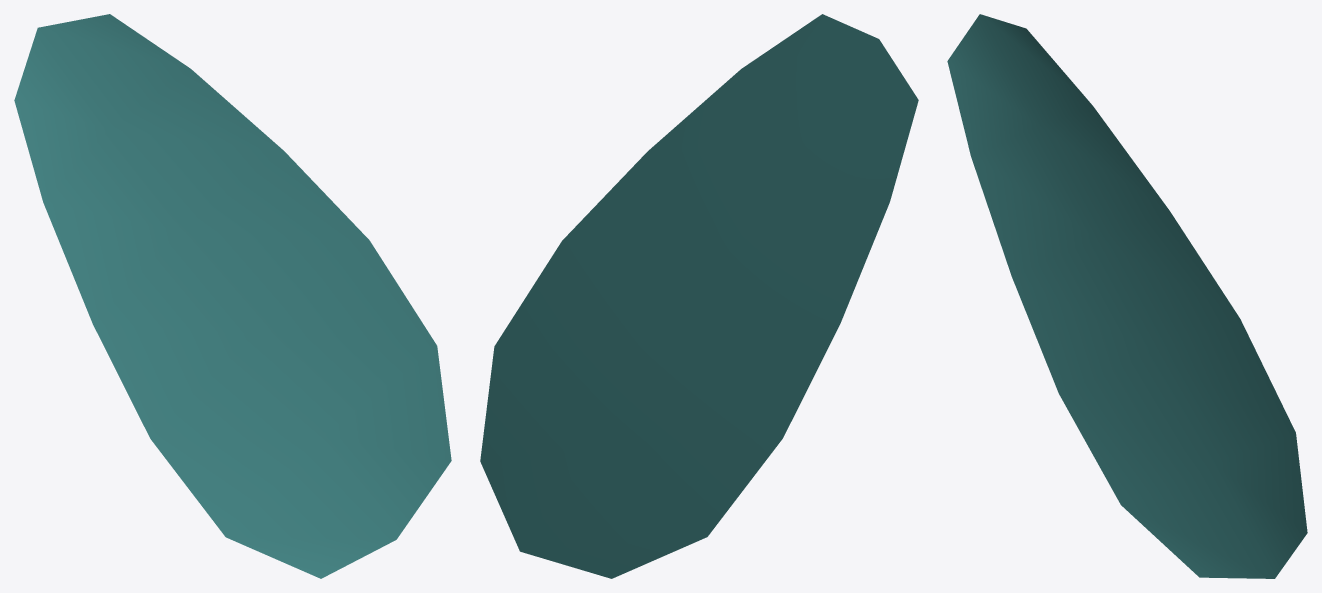
The model's file is budgie_feather_flight_tertiary_057.obj.
3 renders of one model, left to right at view 1: azimuth 30°, elevation 25°; view 2: azimuth 150°, elevation 25°; view 3: azimuth 330°, elevation 25°, orthographic. The views are drawn at different scales.
Visible parts, largest first — view 1: feather_flight_tertiary_057; view 2: feather_flight_tertiary_057; view 3: feather_flight_tertiary_057.
Part boxes in pixels (x1,y1,x2,y2): feather_flight_tertiary_057: (14, 14, 451, 578); feather_flight_tertiary_057: (480, 14, 918, 578); feather_flight_tertiary_057: (947, 14, 1307, 578).
Size of the model in its own units: 0.0103 by 0.0139 by 0.000338.
